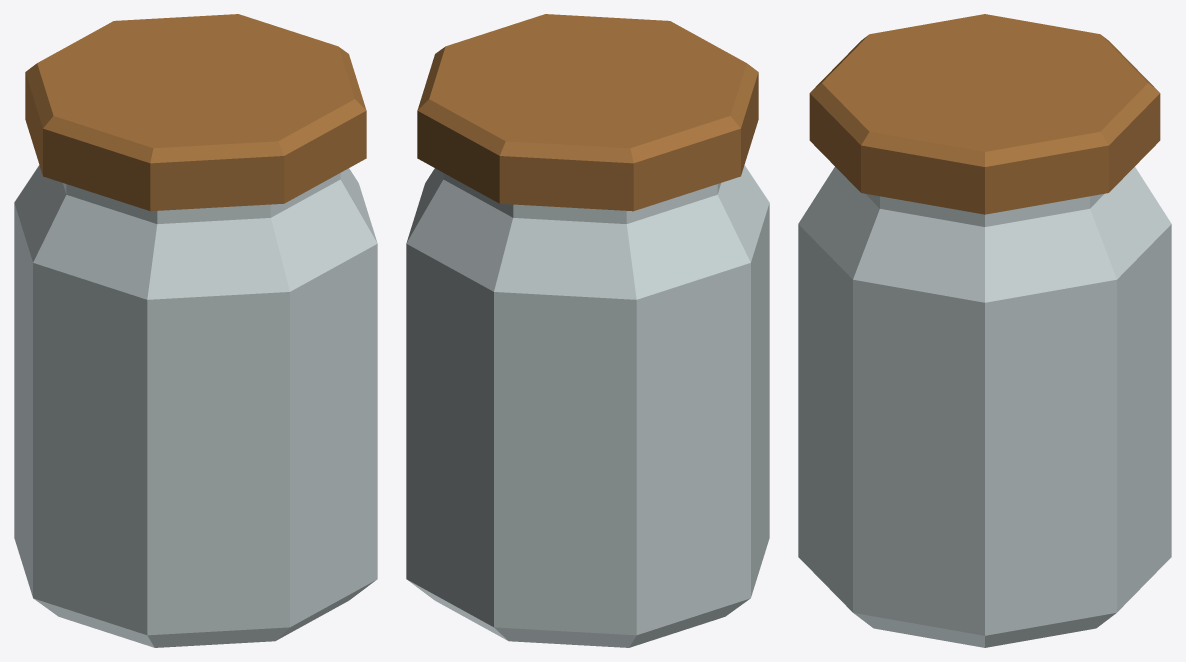
File: jar_closed.fbx
3 renders of one model, left to right at view 1: azimuth 30°, elevation 25°; view 2: azimuth 150°, elevation 25°; view 3: azimuth 270°, elevation 25°, orthographic.
Visible parts, largest first — view 1: jam_jar_closed; view 2: jam_jar_closed; view 3: jam_jar_closed.
Boxes of the visible parts, box(x1,y1,x2,y2) form: jam_jar_closed: box(14, 14, 377, 647); jam_jar_closed: box(406, 14, 769, 647); jam_jar_closed: box(798, 14, 1171, 647).
Bounding box in the file's own units: 200 × 295 × 200.
